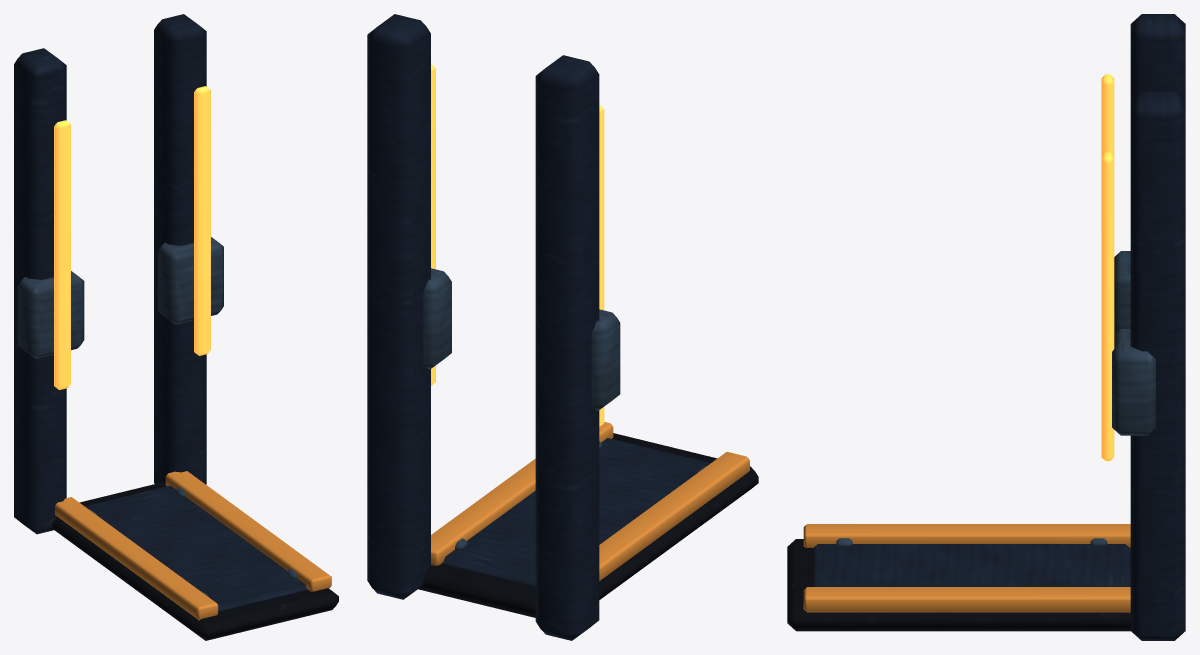
Rendered from laser_trap.glb.
The picture shows the model from 3 angles, left to right: view 1: azimuth 30°, elevation 25°; view 2: azimuth 150°, elevation 25°; view 3: azimuth 270°, elevation 25°; orthographic projection. The views are drawn at different scales.
Parts seen in each view (by area): view 1: laser_trap - Blue steel, laser_trap - Hot service LEDs, laser_trap - Safety enamel, laser_trap - Brushed gunmetal, laser_trap - Recessed iron; view 2: laser_trap - Blue steel, laser_trap - Safety enamel, laser_trap - Recessed iron, laser_trap - Brushed gunmetal, laser_trap - Hot service LEDs; view 3: laser_trap - Blue steel, laser_trap - Safety enamel, laser_trap - Recessed iron, laser_trap - Brushed gunmetal, laser_trap - Hot service LEDs.
Boxes of the visible parts, x1,y1,x2,y2 form: laser_trap - Blue steel: (14,14,307,611); laser_trap - Hot service LEDs: (54,86,210,389); laser_trap - Safety enamel: (55,471,331,620); laser_trap - Brushed gunmetal: (17,237,297,596); laser_trap - Recessed iron: (51,481,338,640); laser_trap - Blue steel: (367,14,710,640); laser_trap - Safety enamel: (431,422,749,580); laser_trap - Recessed iron: (418,433,758,617); laser_trap - Brushed gunmetal: (423,268,705,550); laser_trap - Hot service LEDs: (431,64,604,426); laser_trap - Blue steel: (812,14,1185,640); laser_trap - Safety enamel: (803,524,1130,612); laser_trap - Recessed iron: (787,539,1130,631); laser_trap - Brushed gunmetal: (836,251,1155,546); laser_trap - Hot service LEDs: (1101,74,1114,461).
Bounding box in the file's own units: 1.17 × 2.7 × 1.81.
Materials: 5 (3 with a texture image).
